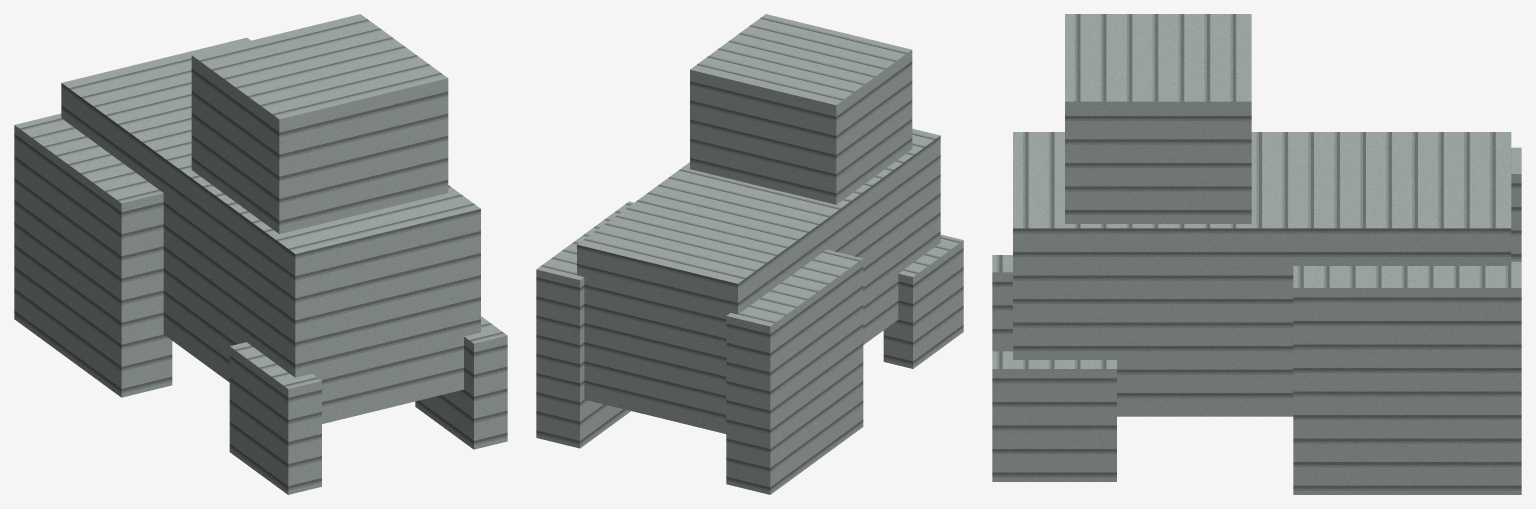
The model's file is tractor.glb.
3 views of the same model, side by side, from view 1: azimuth 30°, elevation 25°; view 2: azimuth 150°, elevation 25°; view 3: azimuth 270°, elevation 25° (orthographic). The views are drawn at different scales.
Visible parts, largest first — view 1: tractor-col; view 2: tractor-col; view 3: tractor-col.
Part boxes in pixels (x1,y1,x2,y2): tractor-col: (14, 14, 507, 494); tractor-col: (536, 14, 963, 494); tractor-col: (992, 14, 1521, 494).
Size of the model in its own units: 1.6 by 1.95 by 2.55.
Materials: 1 (1 with a texture image).
